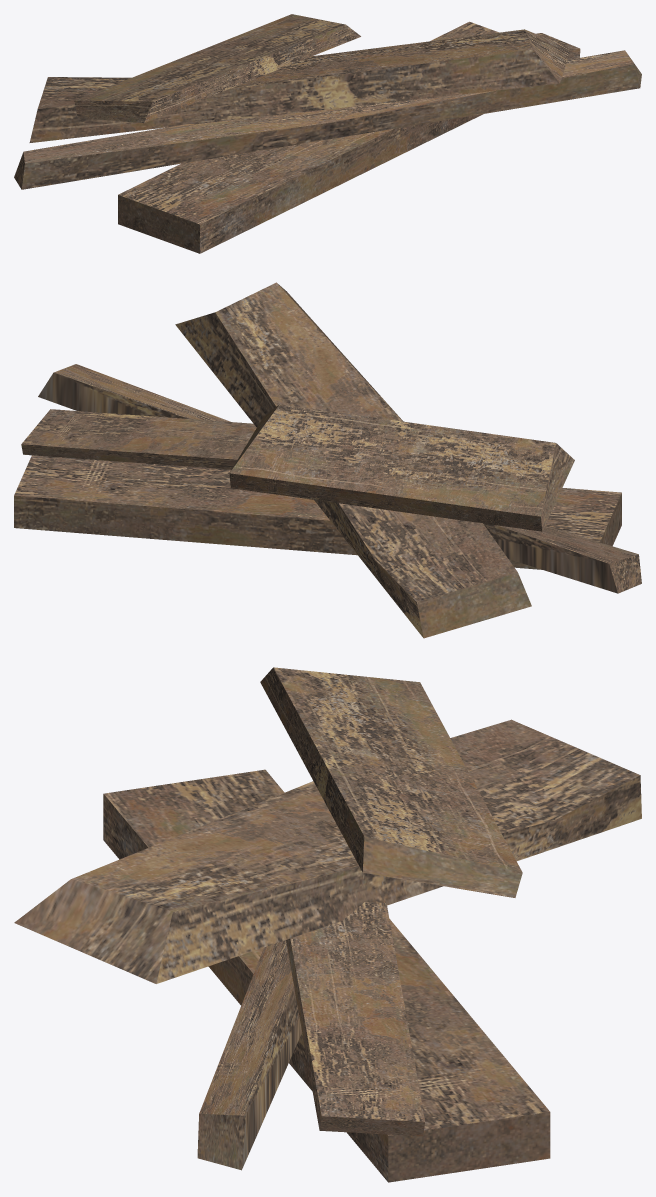
File: SM_Broken_Wood_01.fbx
The picture shows the model from 3 angles, top to bottom: view 1: azimuth 30°, elevation 25°; view 2: azimuth 150°, elevation 25°; view 3: azimuth 270°, elevation 25°; orthographic projection. The views are drawn at different scales.
Parts seen in each view (by area): view 1: SM_Broken_Wood_01; view 2: SM_Broken_Wood_01; view 3: SM_Broken_Wood_01.
Boxes of the visible parts, x1,y1,x2,y2 form: SM_Broken_Wood_01: [14, 14, 641, 253]; SM_Broken_Wood_01: [14, 282, 641, 638]; SM_Broken_Wood_01: [14, 667, 641, 1182].
Size of the model in its own units: 97.44 by 21.25 by 57.1.
Materials: 1 (1 with a texture image).
